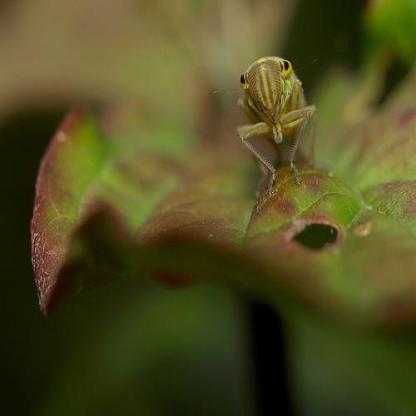Green-Leafhopper: (226, 52, 328, 194)
